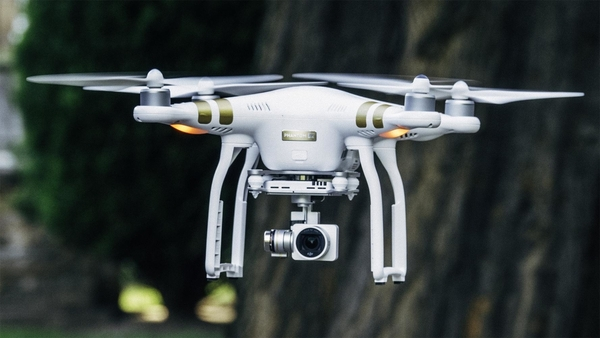drone: (25, 60, 585, 284)
